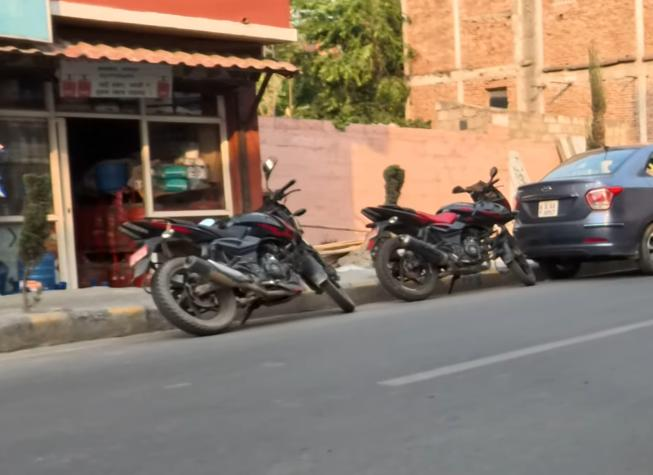bike: (121, 152, 361, 342), (352, 165, 546, 306)
